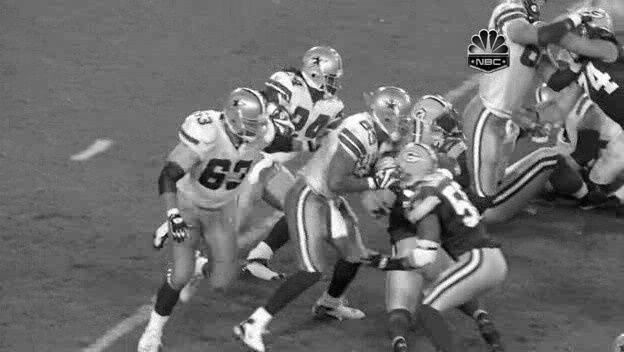person: (308, 46, 343, 91), (307, 46, 342, 91), (309, 46, 344, 91), (308, 45, 343, 90), (308, 47, 343, 92)
target_negative: (113, 178, 326, 335), (361, 222, 588, 298), (547, 182, 606, 325), (315, 93, 491, 130), (420, 232, 471, 278), (500, 75, 505, 125)
